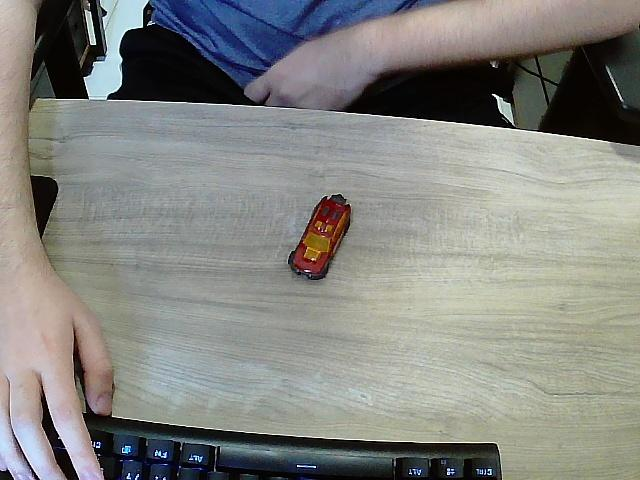Carro: (289, 195, 352, 282)
